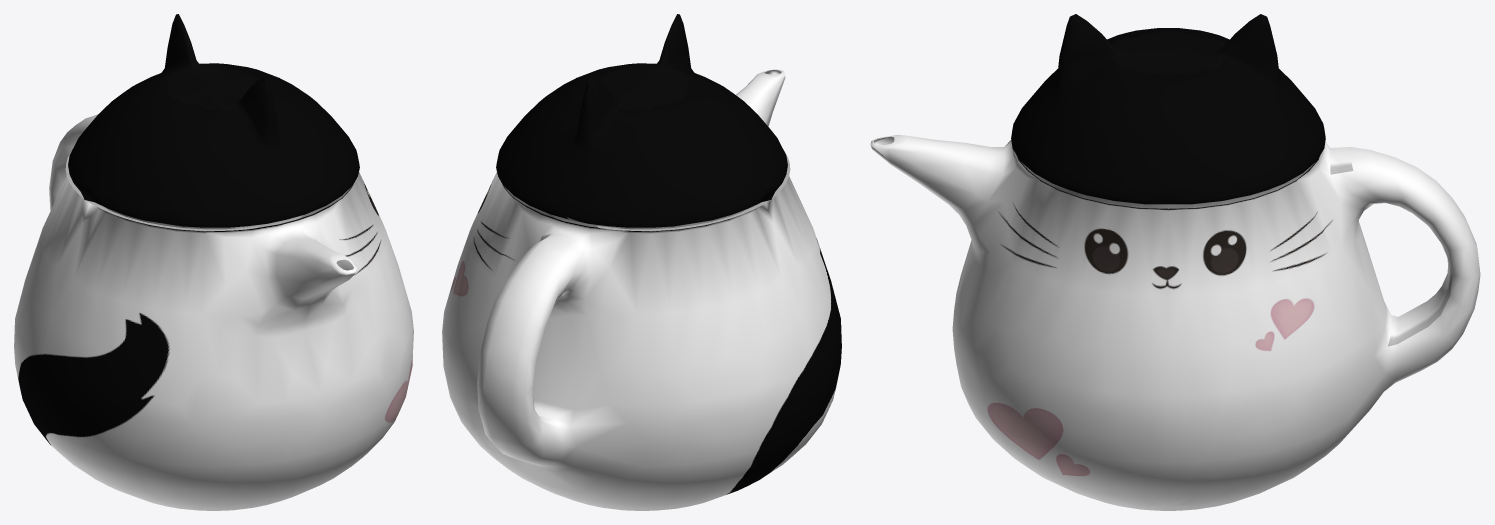
File: cat tea pot.fbx
3 views of the same model, side by side, from view 1: azimuth 30°, elevation 25°; view 2: azimuth 150°, elevation 25°; view 3: azimuth 270°, elevation 25° (orthographic). The views are drawn at different scales.
Parts seen in each view (by area): view 1: Tea pot; view 2: Tea pot; view 3: Tea pot.
Part boxes in pixels (left/top/right/bottom): Tea pot: left=14, top=14, right=413, bottom=510; Tea pot: left=442, top=14, right=841, bottom=510; Tea pot: left=870, top=14, right=1480, bottom=510.
Size of the model in its own units: 37.04 by 42.59 by 52.11.
